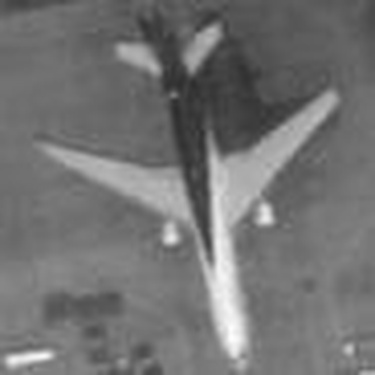airplane: (16, 1, 348, 369)
